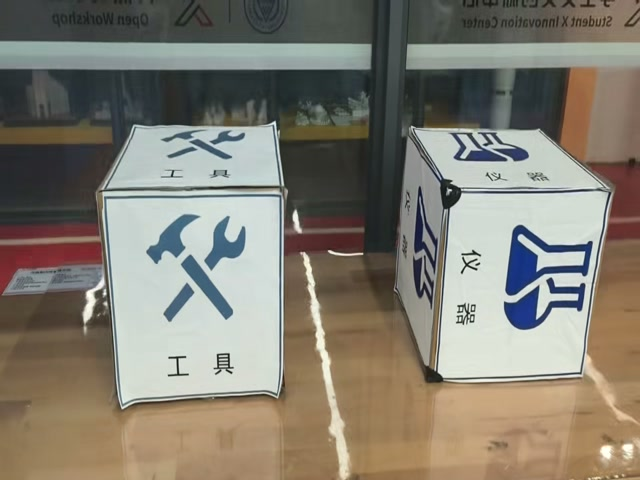Cube_ins: (408, 128, 611, 193)
Cube_tool: (97, 124, 284, 198)
